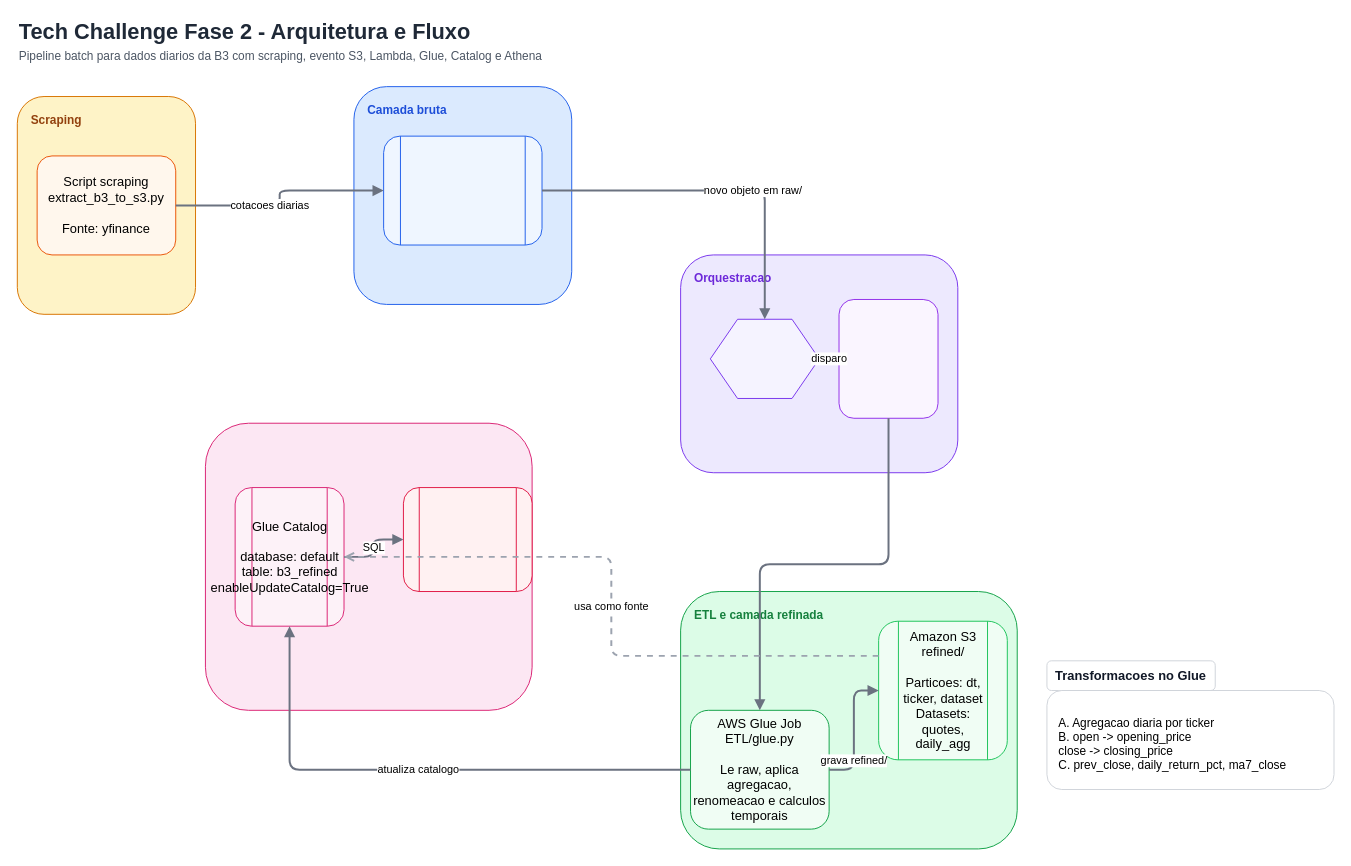
Some shapes in this 1351 by 866 pixel diagram are drawn without their labels. The box of each missing label's shape, as (x1, y1, x2, y2) in pixels:
Amazon Athena Consulta SQL da camada refinada: (402, 487, 532, 592)
Amazon S3 raw/ dt=YYYY-MM-DD/quotes.parquet Parquet + particao diaria: (383, 135, 542, 245)
AWS Lambda s3_to_glue_lambda.py Valida path e chama glue.start_job_run(...): (838, 298, 938, 418)
Catalogacao e consumo: (204, 422, 532, 710)
S3 Event Notification: (709, 318, 819, 398)
